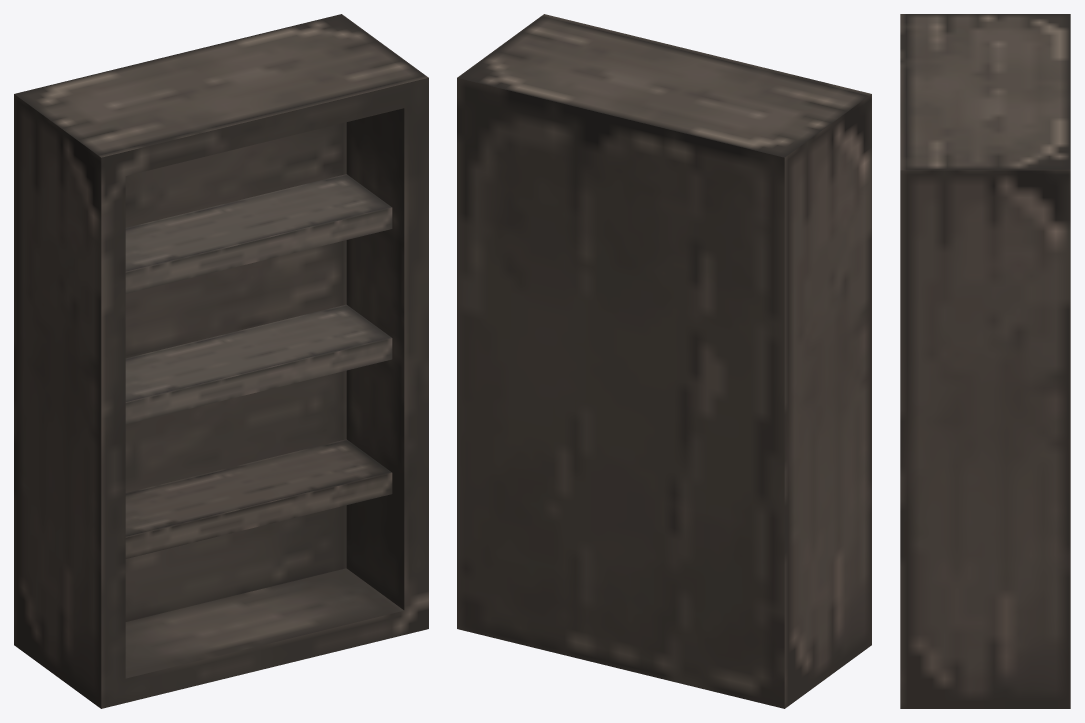
Rendered from FixedBooKSHLF.fbx.
The picture shows the model from 3 angles, left to right: view 1: azimuth 30°, elevation 25°; view 2: azimuth 150°, elevation 25°; view 3: azimuth 270°, elevation 25°; orthographic projection. The views are drawn at different scales.
Parts seen in each view (by area): view 1: FixedBookSHLF; view 2: FixedBookSHLF; view 3: FixedBookSHLF.
Part boxes in pixels (<box>): FixedBookSHLF: <box>14,14,428,708</box>; FixedBookSHLF: <box>457,14,871,708</box>; FixedBookSHLF: <box>900,14,1070,708</box>.
Size of the model in its own units: 1101 by 1770 by 507.
